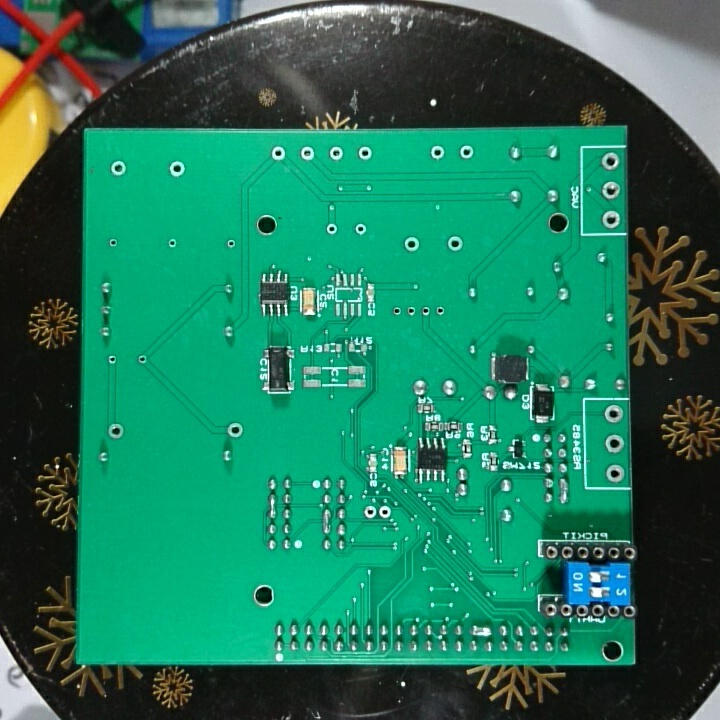F: (599, 178, 623, 203), (603, 462, 626, 487), (444, 231, 465, 257), (599, 150, 622, 173), (599, 207, 622, 230), (602, 403, 625, 426), (603, 432, 626, 455), (400, 232, 422, 255), (104, 420, 128, 441), (107, 157, 129, 179), (165, 158, 187, 179), (225, 420, 247, 440), (268, 142, 288, 163), (426, 143, 447, 163), (325, 143, 347, 162), (297, 143, 317, 163), (354, 142, 373, 163), (458, 143, 476, 163), (417, 300, 432, 320), (362, 503, 378, 521), (105, 352, 122, 368), (324, 220, 339, 238), (378, 503, 392, 522), (353, 219, 367, 238), (432, 303, 447, 320), (402, 304, 417, 320), (224, 236, 238, 252), (135, 352, 150, 366), (389, 303, 402, 319), (106, 236, 121, 249), (166, 236, 178, 252)
P: (557, 475, 571, 507), (468, 623, 496, 639), (266, 492, 281, 521), (318, 508, 334, 535)
